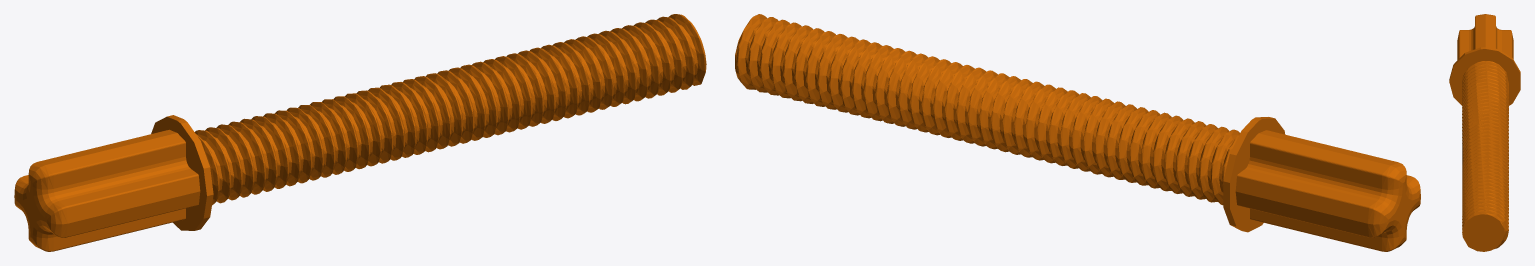
File: Or_4612100_c)_AVV.fbx
3 views of the same model, side by side, from view 1: azimuth 30°, elevation 25°; view 2: azimuth 150°, elevation 25°; view 3: azimuth 270°, elevation 25° (orthographic). The views are drawn at different scales.
Visible parts, largest first — view 1: Or_4612100_c__AVV; view 2: Or_4612100_c__AVV; view 3: Or_4612100_c__AVV.
Part boxes in pixels (box(x1,y1,x2,y2)): Or_4612100_c__AVV: box(14, 14, 706, 251); Or_4612100_c__AVV: box(735, 14, 1420, 251); Or_4612100_c__AVV: box(1449, 14, 1520, 251).
Size of the model in its own units: 3.96 by 0.6177 by 0.611.
